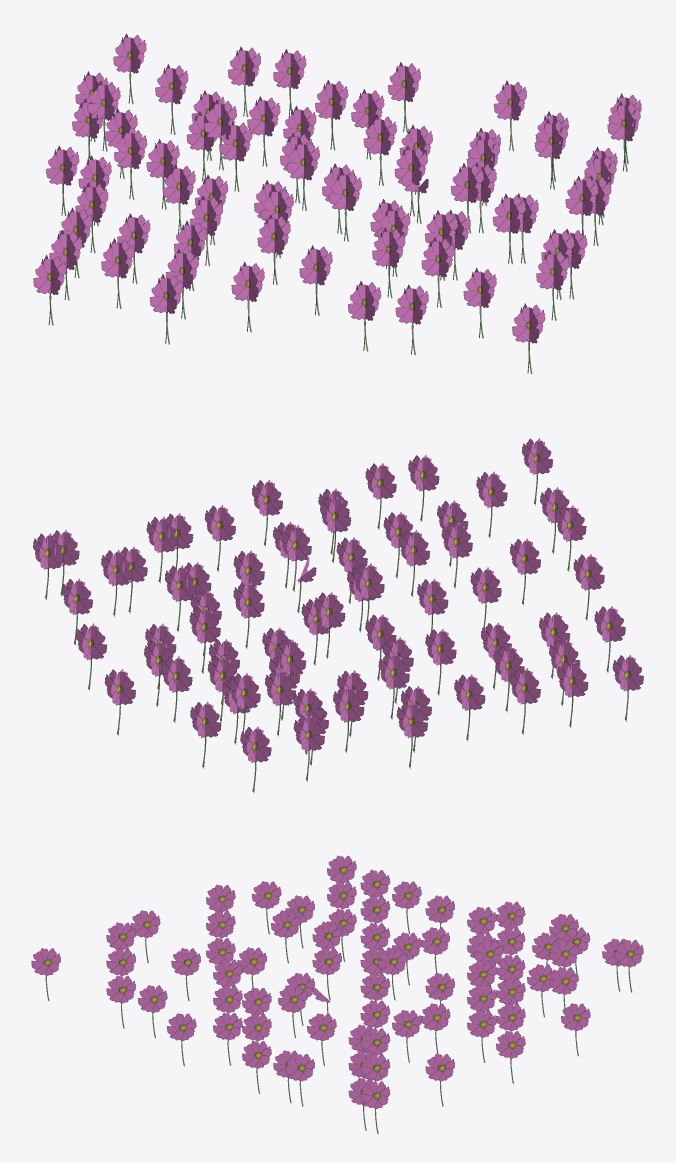
File: flower.obj
The picture shows the model from 3 angles, top to bottom: view 1: azimuth 30°, elevation 25°; view 2: azimuth 150°, elevation 25°; view 3: azimuth 270°, elevation 25°; orthographic projection. The views are drawn at different scales.
Parts seen in each view (by area): view 1: pink; view 2: pink; view 3: pink.
Part boxes in pixels (x1,y1,x2,y2): pink: [33, 33, 641, 374]; pink: [33, 438, 643, 793]; pink: [31, 855, 643, 1134].
Size of the model in its own units: 9.2 by 1.28 by 9.95.
Materials: 1 (1 with a texture image).
